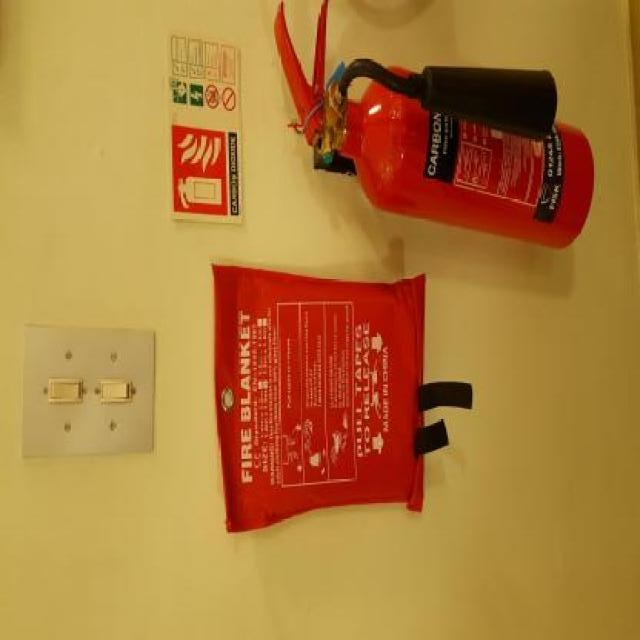fire extinguisher: (274, 0, 594, 251)
